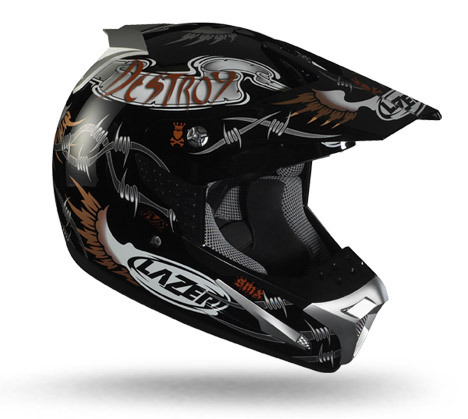helmet: (62, 10, 405, 348)
